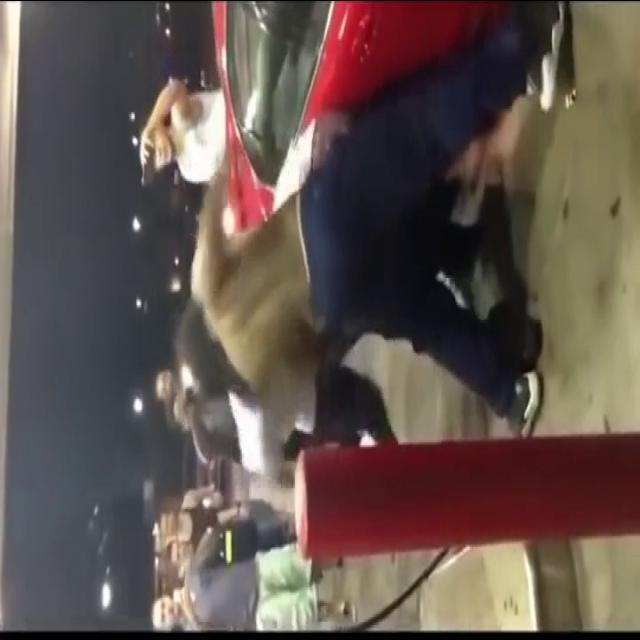NonViolence: (152, 509, 358, 627)
Violence: (183, 111, 530, 477)
